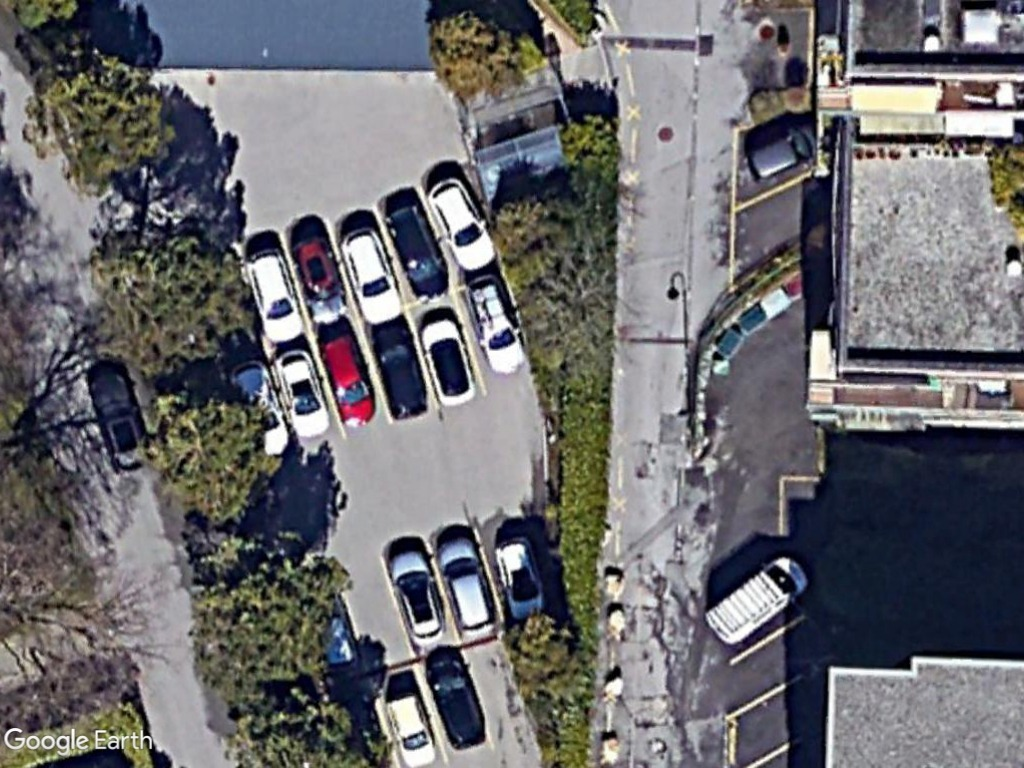car: (424, 175, 499, 276), (335, 223, 408, 326), (86, 368, 151, 480), (382, 200, 450, 300), (437, 535, 500, 638), (241, 248, 308, 344), (419, 311, 482, 410), (465, 277, 528, 376), (316, 330, 379, 427), (287, 236, 353, 325), (425, 650, 484, 747), (388, 551, 446, 649), (275, 346, 336, 439), (493, 531, 552, 623), (382, 692, 438, 768)
van: (700, 552, 814, 655)
